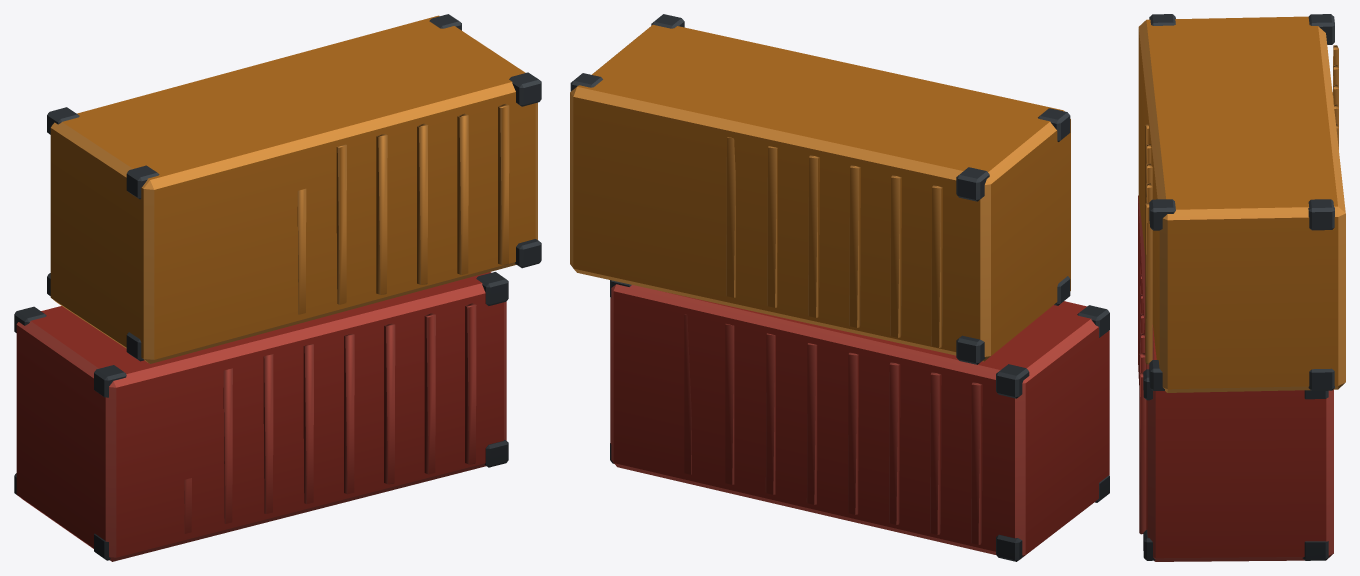
The model's file is container-stack-v1.lod1.glb.
3 renders of one model, left to right at view 1: azimuth 30°, elevation 25°; view 2: azimuth 150°, elevation 25°; view 3: azimuth 270°, elevation 25°, orthographic.
Visible parts, largest first — view 1: container-stack-v1.lod1; view 2: container-stack-v1.lod1; view 3: container-stack-v1.lod1.
Boxes of the visible parts, x1,y1,x2,y2 form: container-stack-v1.lod1: (14,14,541,561); container-stack-v1.lod1: (570,14,1109,561); container-stack-v1.lod1: (1138,14,1345,561).
Size of the model in its own units: 6.6 by 5.29 by 2.67.
